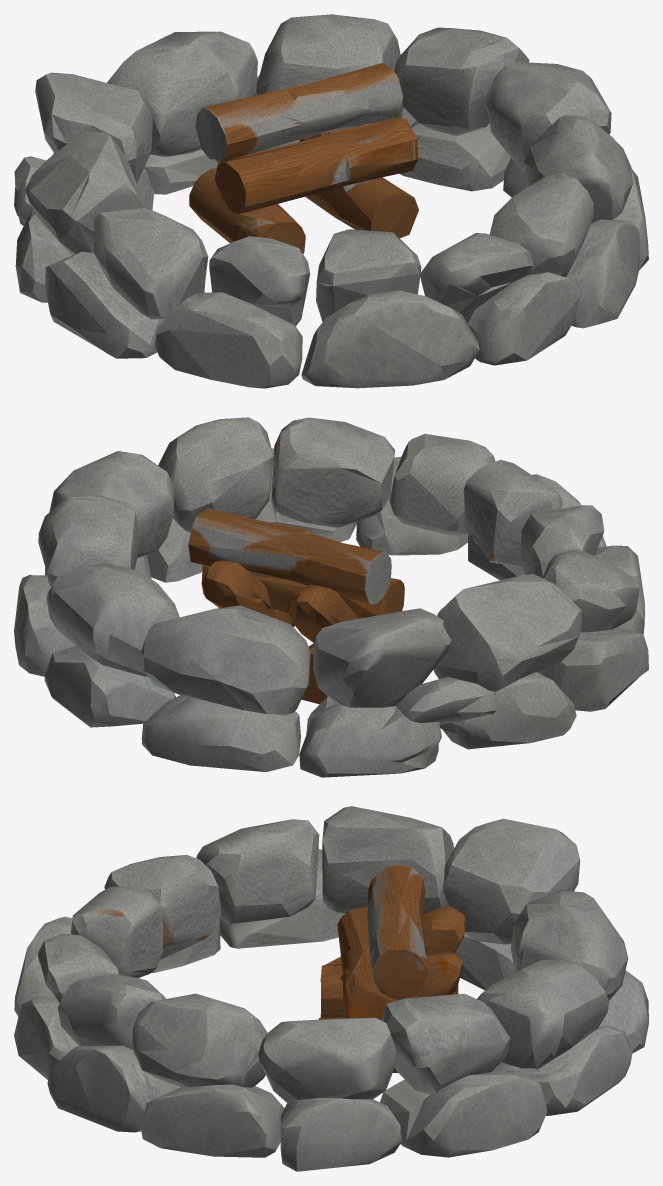
The model's file is fire_ring.glb.
3 renders of one model, top to bottom at view 1: azimuth 30°, elevation 25°; view 2: azimuth 150°, elevation 25°; view 3: azimuth 270°, elevation 25°, orthographic. The views are drawn at different scales.
Bounding box in the file's own units: 1.89 × 0.4438 × 1.89.
1 material, 1 textured.
